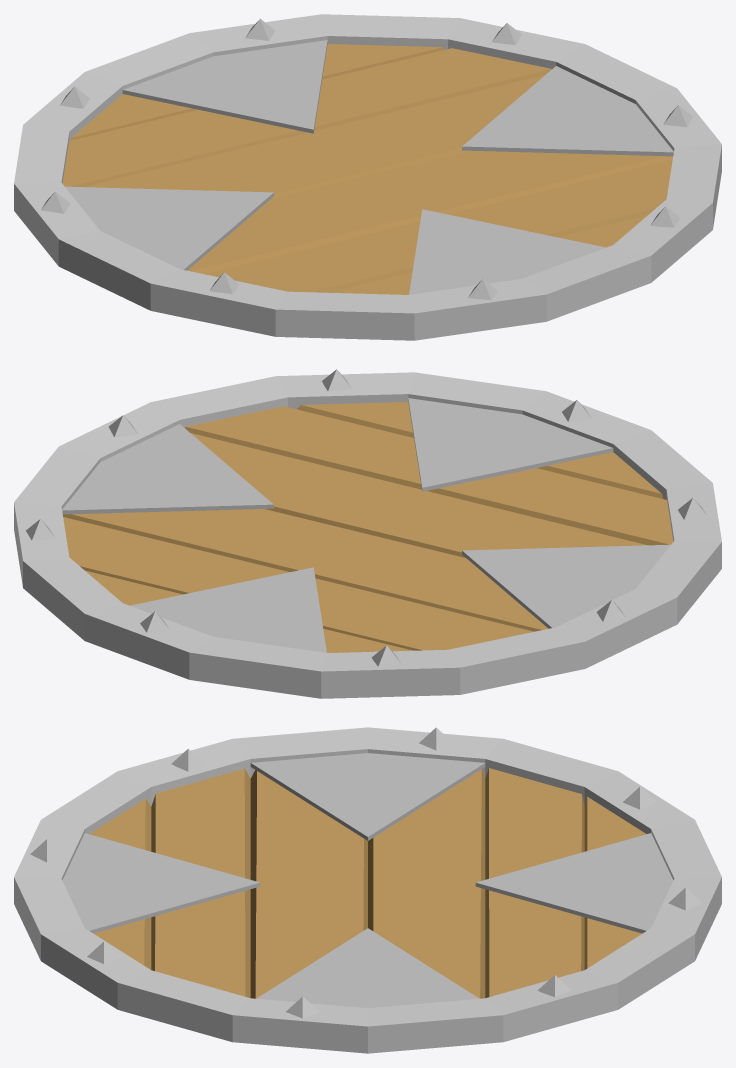
File: Shield_1_с_wood.fbx
3 views of the same model, one above another, from view 1: azimuth 30°, elevation 25°; view 2: azimuth 150°, elevation 25°; view 3: azimuth 270°, elevation 25° (orthographic).
Visible parts, largest first — view 1: Circle.070, Circle.071, Circle.074; view 2: Circle.070, Circle.071, Circle.074; view 3: Circle.070, Circle.071, Circle.074.
Boxes of the visible parts, box(x1,y1,x2,y2) form: Circle.070: box(62, 44, 672, 294); Circle.071: box(14, 14, 721, 340); Circle.074: box(65, 40, 673, 294); Circle.070: box(63, 402, 673, 652); Circle.071: box(14, 372, 721, 698); Circle.074: box(62, 398, 670, 652); Circle.070: box(89, 768, 646, 998); Circle.071: box(14, 727, 721, 1053); Circle.074: box(62, 753, 673, 1007).
Bounding box in the file's own units: 80.85 × 16.22 × 80.85.
